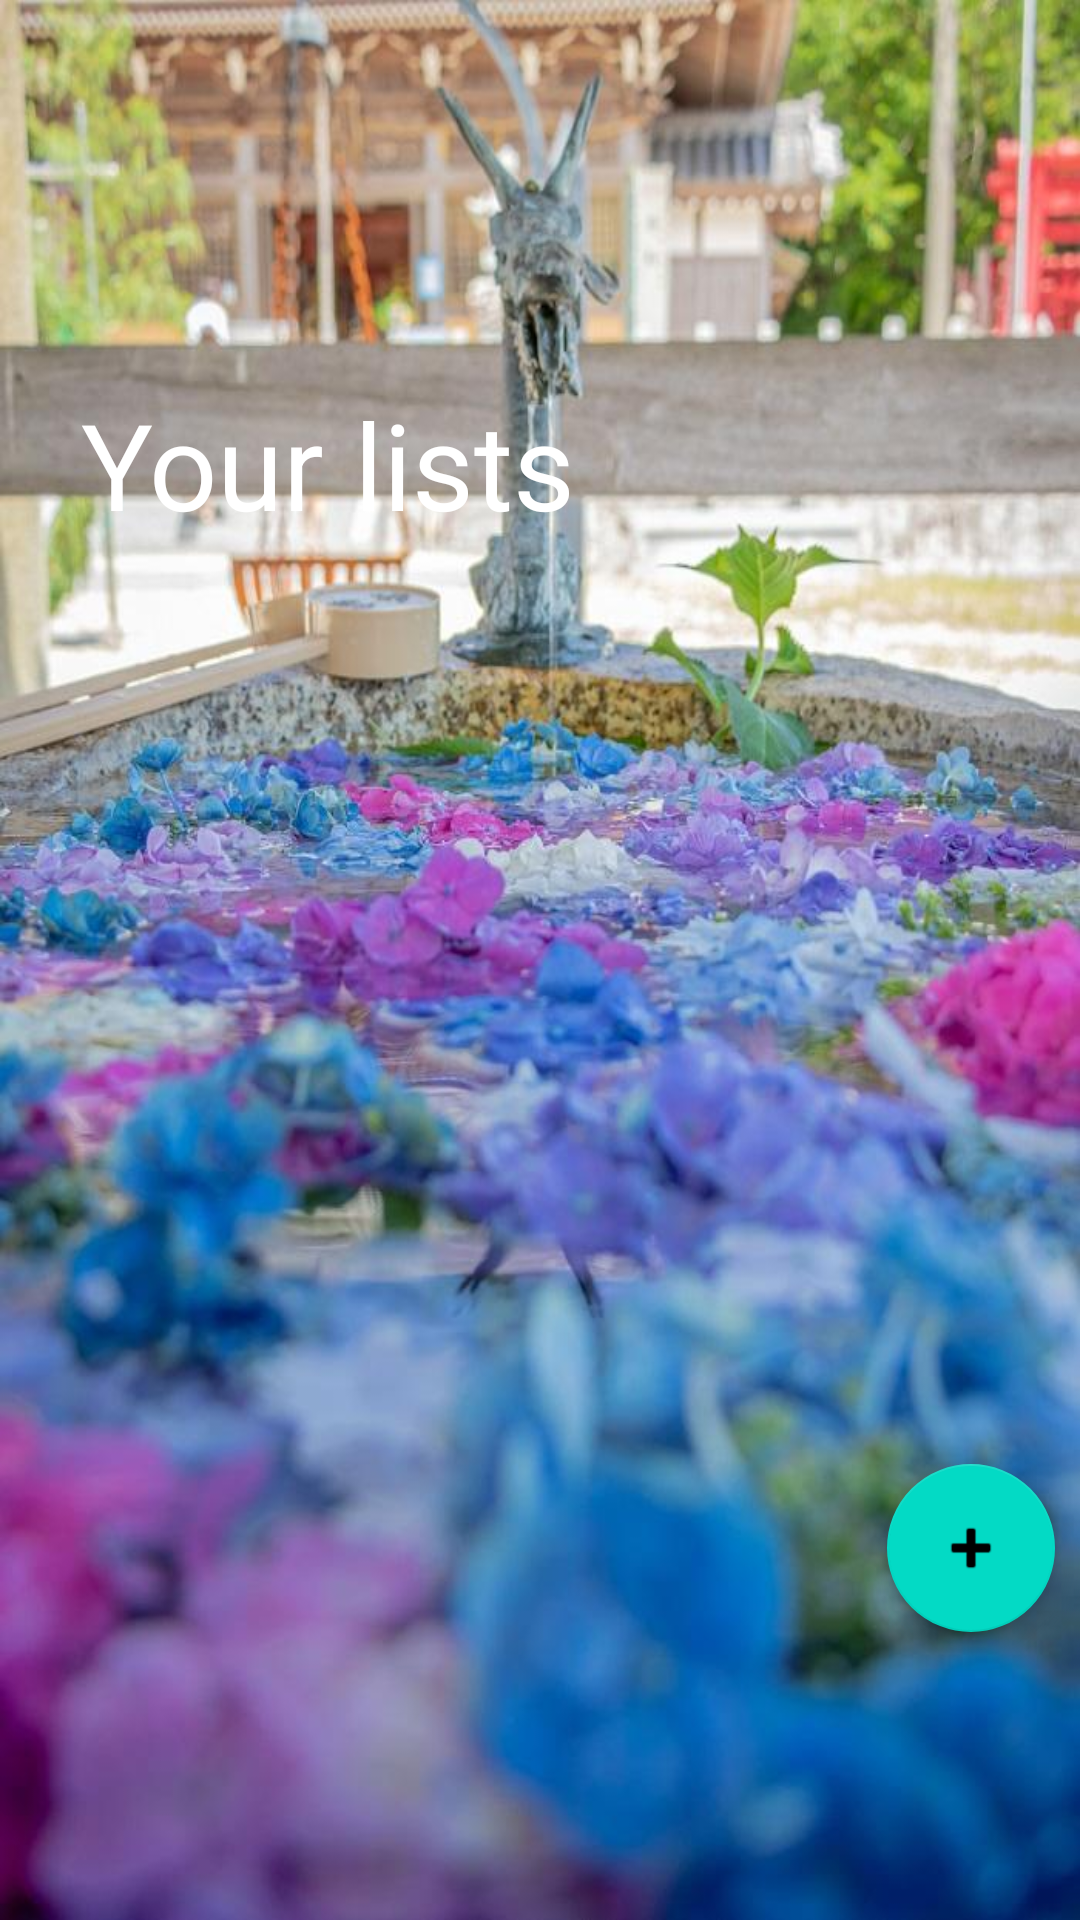

Screen size 1080×1920. Icon name, then its center in pixels as [x,y]:
add: [971,1548]
